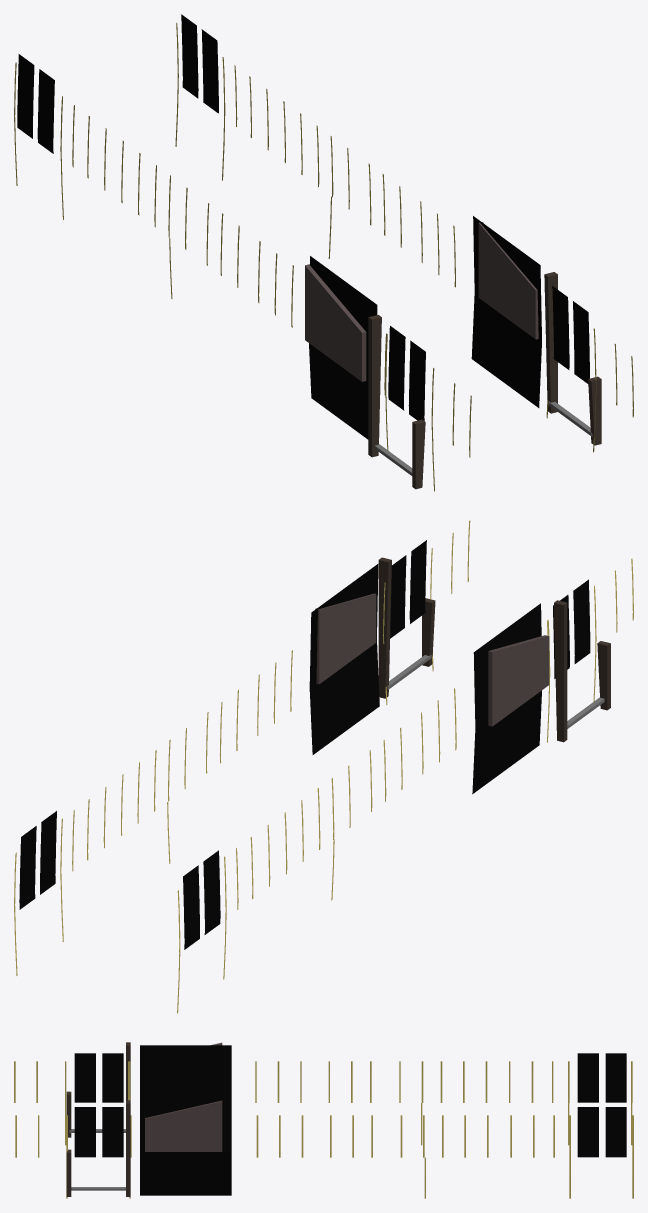
Rendered from gnr-tpo-bits.dae.
3 views of the same model, one above another, from view 1: azimuth 30°, elevation 25°; view 2: azimuth 150°, elevation 25°; view 3: azimuth 270°, elevation 25° (orthographic). The views are drawn at different scales.
Parts seen in each view (by area): view 1: Plane_1258, Plane_1259, Cube_018, Cube_018_001, Cube_023, Cube_023_001, Plane_1248, Plane_1199, Plane_1240, Plane_1200, Plane_1245, Plane_1247 (+4 smaller); view 2: Plane_1258, Plane_1259, Cube_018, Cube_018_001, Cube_023, Cube_023_001, Plane_1245, Plane_1240, Plane_1199, Plane_1200, Plane_1246, Plane_1239 (+3 smaller); view 3: Plane_1258, Plane_1259, Cube_018_001, Plane_1247, Plane_1200, Plane_1239, Plane_1246, Plane_1199, Plane_1240, Plane_1245, Plane_1248, Cube_023_001 (+1 smaller).
Part boxes in pixels (left/top/right/bottom): Plane_1258: left=471, top=216, right=541, bottom=407; Plane_1259: left=309, top=256, right=377, bottom=439; Cube_018: left=305, top=264, right=366, bottom=381; Cube_018_001: left=478, top=222, right=538, bottom=339; Cube_023: left=368, top=315, right=381, bottom=457; Cube_023_001: left=544, top=272, right=557, bottom=413; Plane_1248: left=388, top=326, right=405, bottom=410; Plane_1199: left=17, top=54, right=34, bottom=138; Plane_1240: left=37, top=69, right=54, bottom=153; Plane_1200: left=181, top=14, right=198, bottom=98; Plane_1245: left=408, top=340, right=425, bottom=420; Plane_1247: left=552, top=286, right=569, bottom=369; Plane_1258: left=309, top=564, right=379, bottom=754; Plane_1259: left=472, top=603, right=541, bottom=794; Cube_018: left=488, top=635, right=549, bottom=726; Cube_018_001: left=315, top=593, right=376, bottom=684; Cube_023: left=554, top=600, right=567, bottom=742; Cube_023_001: left=378, top=557, right=391, bottom=698; Plane_1245: left=573, top=579, right=590, bottom=663; Plane_1240: left=203, top=850, right=220, bottom=934; Plane_1199: left=183, top=865, right=199, bottom=949; Plane_1200: left=19, top=826, right=36, bottom=909; Plane_1246: left=409, top=540, right=426, bottom=623; Plane_1239: left=40, top=811, right=56, bottom=894; Plane_1258: left=140, top=1099, right=231, bottom=1195; Plane_1259: left=140, top=1045, right=231, bottom=1099; Cube_018_001: left=145, top=1100, right=222, bottom=1151; Plane_1247: left=102, top=1107, right=123, bottom=1157; Plane_1200: left=605, top=1107, right=626, bottom=1157; Plane_1239: left=577, top=1107, right=598, bottom=1157; Plane_1246: left=74, top=1107, right=95, bottom=1157; Plane_1199: left=605, top=1053, right=626, bottom=1102; Plane_1240: left=577, top=1053, right=598, bottom=1102; Plane_1245: left=74, top=1053, right=95, bottom=1102; Plane_1248: left=102, top=1053, right=123, bottom=1102; Cube_023_001: left=126, top=1100, right=130, bottom=1196.
Size of the model in its own units: 2.21 by 9.39 by 1.67.
